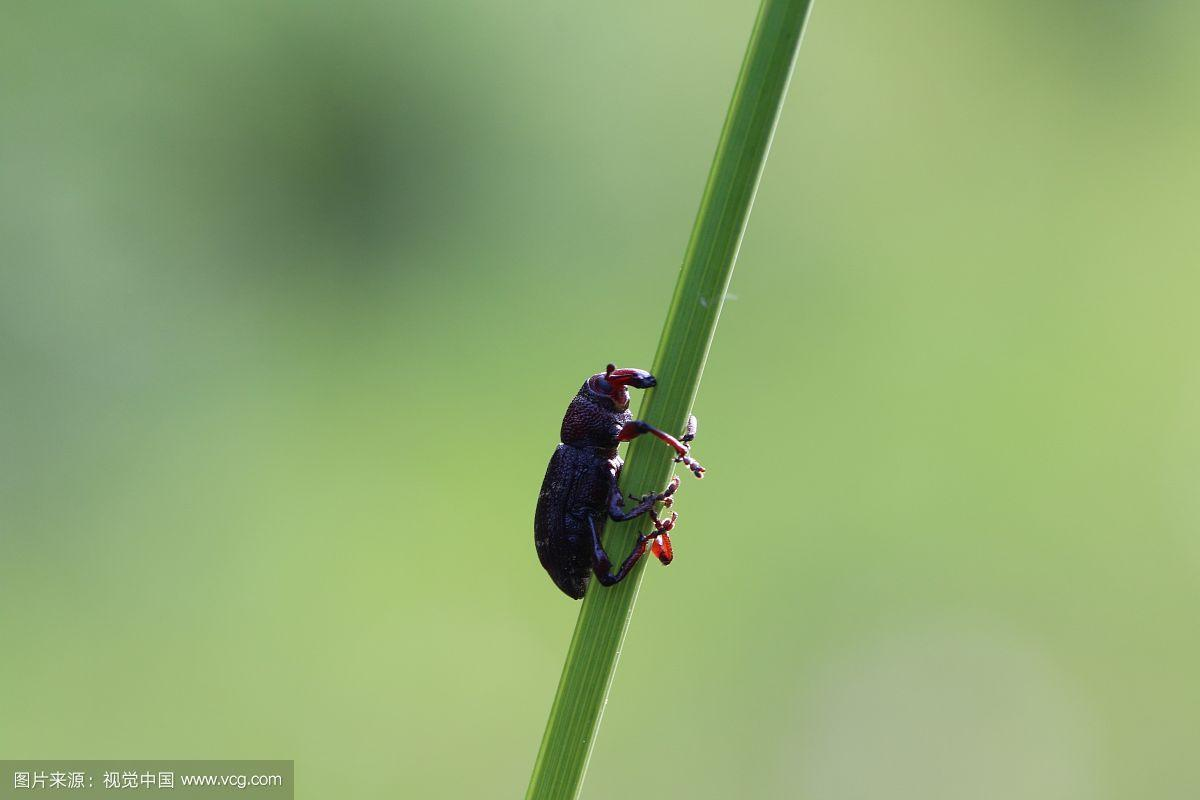Curculionidae: (531, 364, 705, 602)
